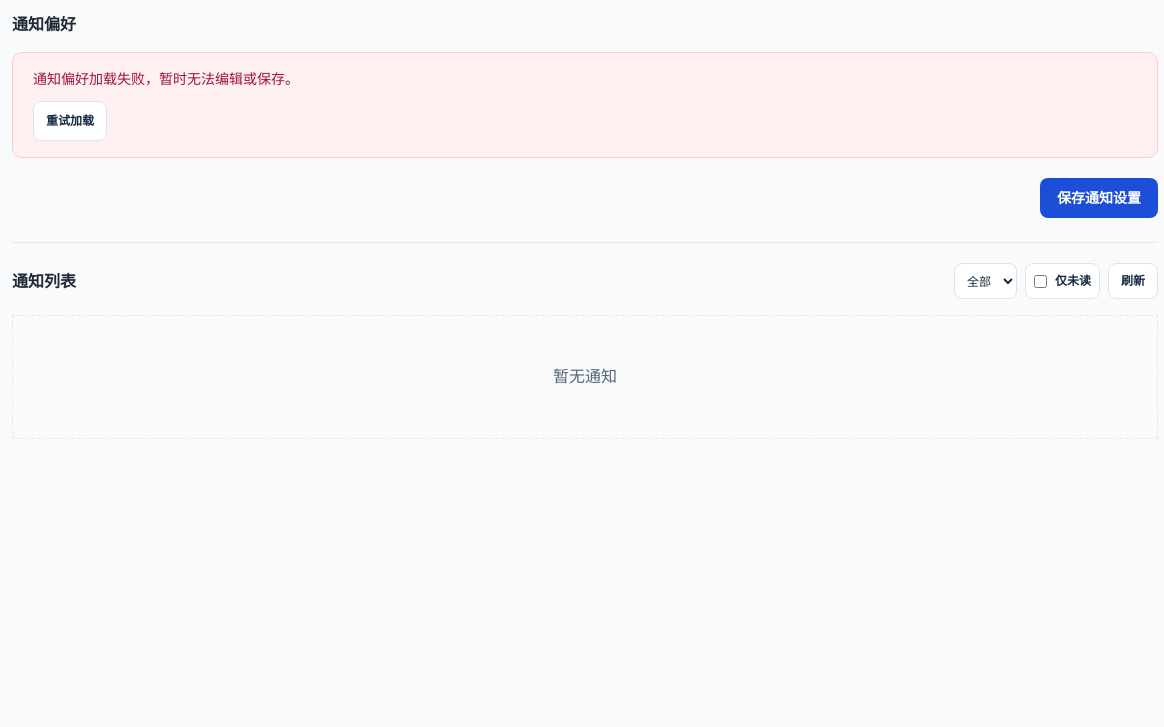
Test: SettingsNotificationsTab › blocks saving and offers retry when preference loading fails
Expected: the message "通知偏好加载失败，暂时无法编辑或保存。 重试加载" is shown, [12,52,1158,158]
Expected: the button "保存通知设置" is disabled, [1040,178,1158,218]
What coordinates should you click on to do the following:
click the button "重试加载"
I would click on:
 (70, 121)
Its box is [33,101,107,141].
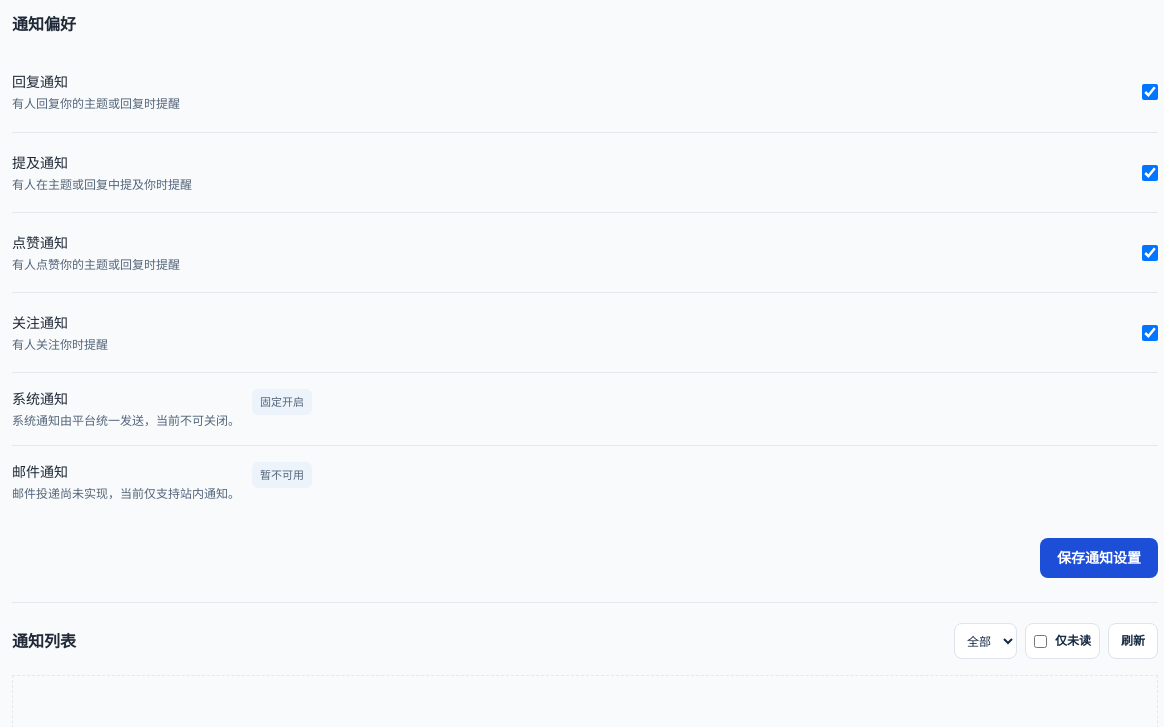
Expected: the checkbox with id "notification-preference-follow" is shown, [1142,324,1158,340]
Expected: the button "保存通知设置" is enabled, [1040,538,1158,578]
